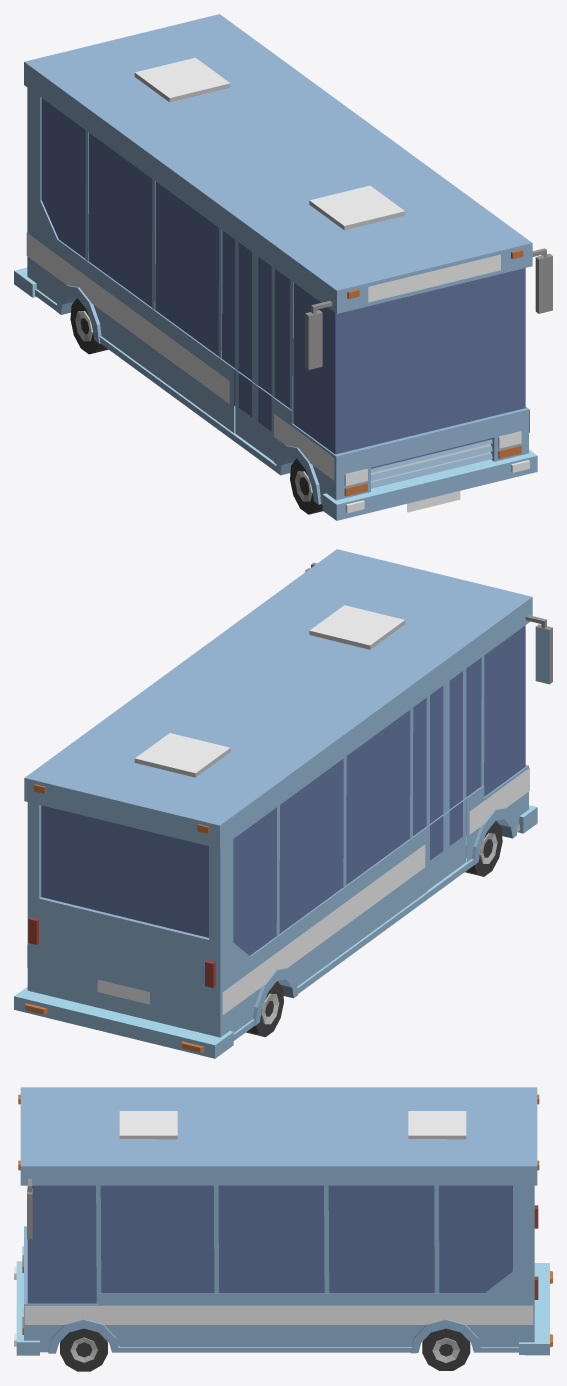
File: transport_bus_007.fbx
The picture shows the model from 3 angles, top to bottom: view 1: azimuth 30°, elevation 25°; view 2: azimuth 150°, elevation 25°; view 3: azimuth 270°, elevation 25°; orthographic projection. The views are drawn at different scales.
Visible parts, largest first — view 1: transport_bus_007; view 2: transport_bus_007; view 3: transport_bus_007.
Boxes of the visible parts, x1=… form: transport_bus_007: x1=14, y1=14, x2=552, y2=520; transport_bus_007: x1=14, y1=549, x2=552, y2=1058; transport_bus_007: x1=14, y1=1087, x2=552, y2=1371.
Bounding box in the file's own units: 219 × 219 × 506.
